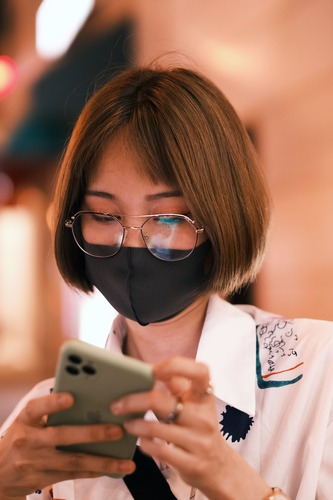with_mask: (75, 136, 209, 318)
